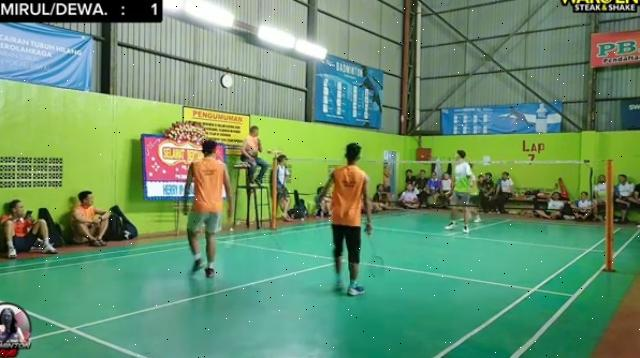Shuttlecock: (398, 116, 408, 124)
